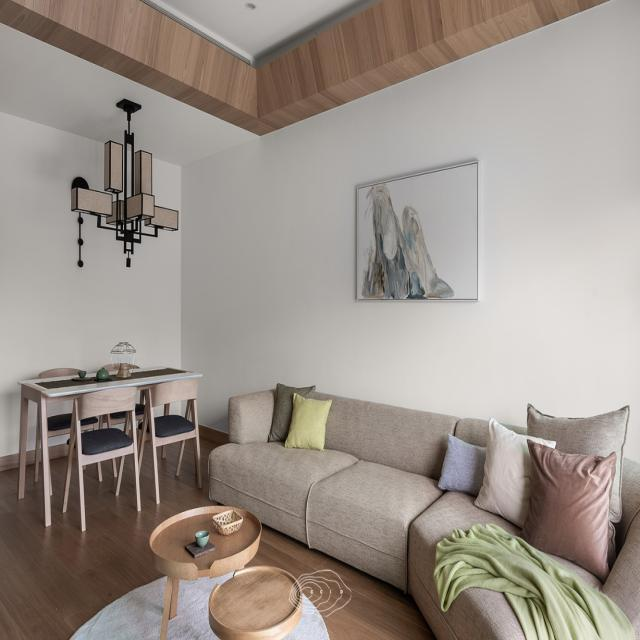table: (18, 358, 205, 518)
